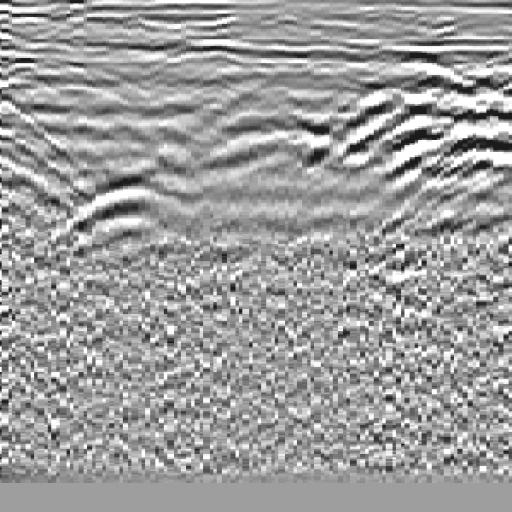metalic: (45, 155, 198, 276)
nonmetalic: (352, 35, 512, 256)
